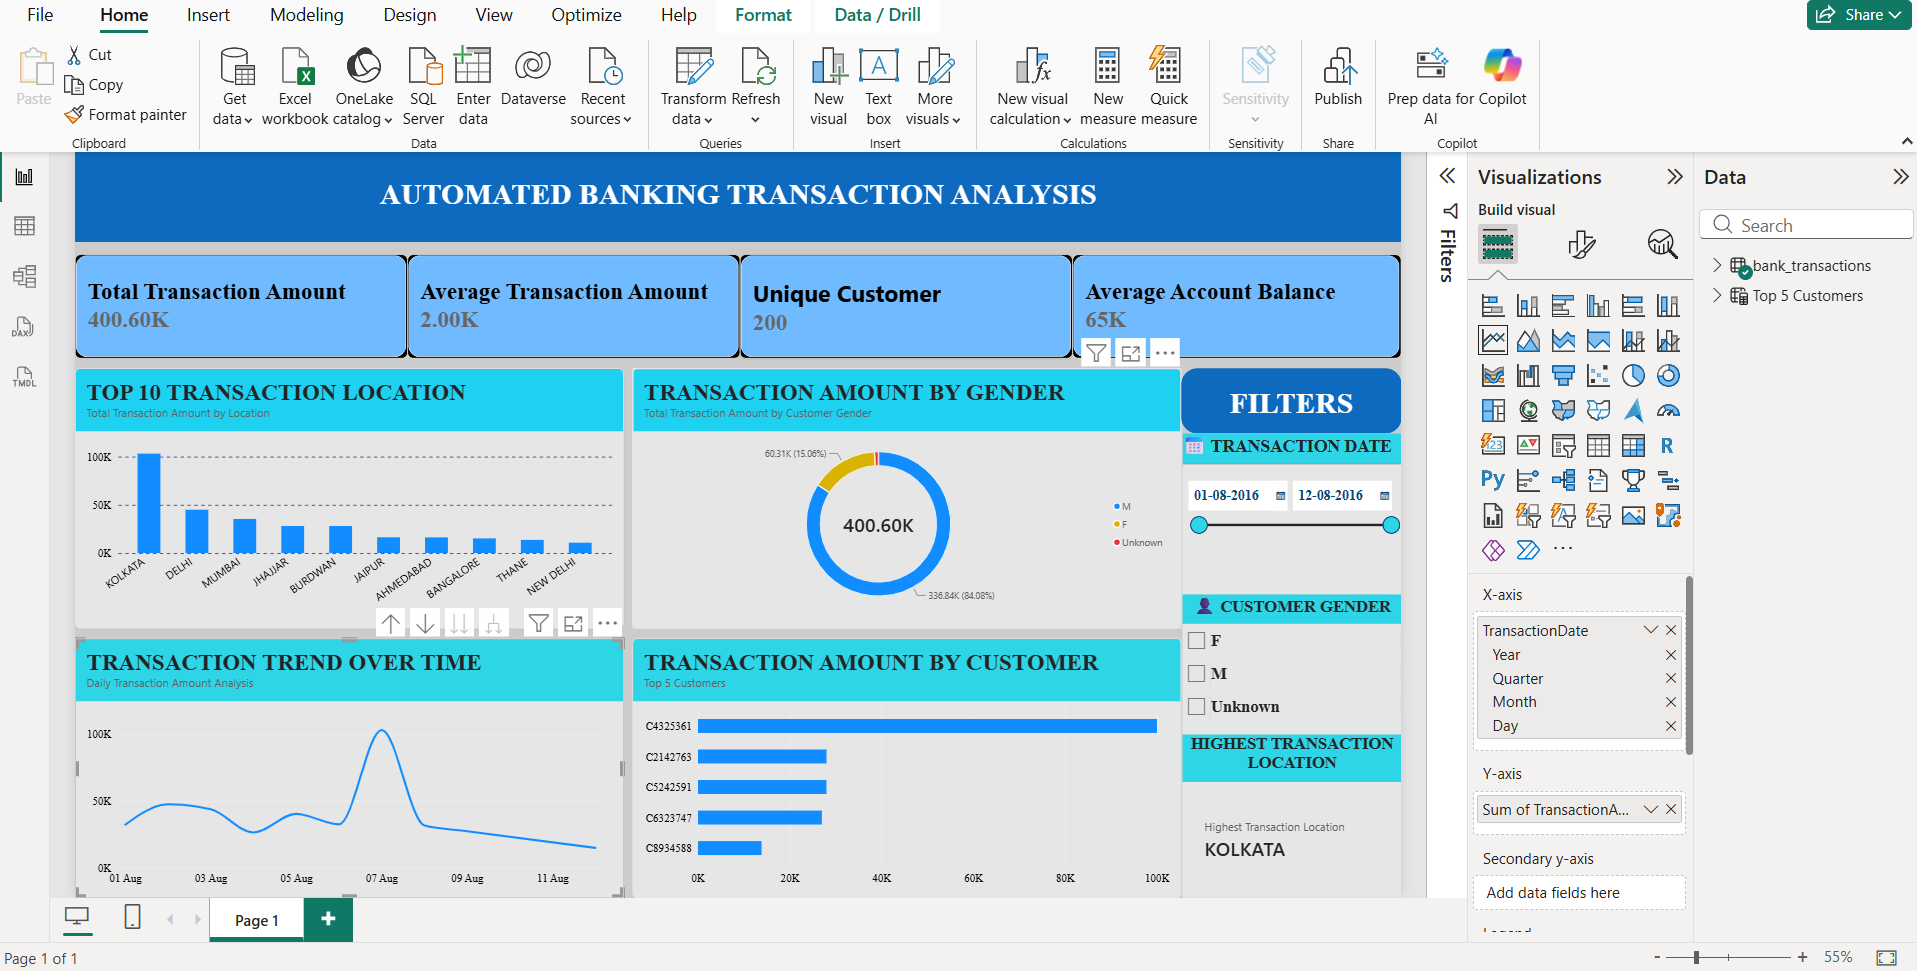

This screenshot's page, from the dashboard's own definition file:
{"tool":"powerbi","page":{"name":"Page 1","canvas":[1920,1080],"ordinal":0},"visuals":[{"type":"shape","box":[0,0,1920.1,130.3],"z":0},{"type":"textbox","box":[0,0,1920.1,130.3],"z":1000},{"type":"cardVisual","fields":{"Data":["bank_transactions.Average Transaction Amount"]},"box":[481.4,148.4,481.4,150.2],"z":2000},{"type":"cardVisual","fields":{"Data":["bank_transactions.Unique Customer"]},"box":[962.7,148.4,481.4,150.2],"z":3000},{"type":"cardVisual","fields":{"Data":["bank_transactions.Average Account Balance"]},"box":[1444.1,148.4,475.9,150.2],"z":4000},{"type":"cardVisual","fields":{"Data":["bank_transactions.Total Transaction Amount"]},"box":[0,148.4,481.4,150.2],"z":5000},{"type":"clusteredColumnChart","title":"TOP 10 TRANSACTION LOCATION","fields":{"Category":["bank_transactions.CustLocation"],"Y":["Sum(bank_transactions.TransactionAmount (INR))"]},"box":[0,312.9,794.5,376.7],"z":6000},{"type":"donutChart","title":"TRANSACTION AMOUNT BY GENDER","fields":{"Category":["bank_transactions.CustGender"],"Y":["Sum(bank_transactions.TransactionAmount (INR))"]},"box":[806.9,312.9,794.5,376.7],"z":7000},{"type":"lineChart","title":"TRANSACTION TREND OVER TIME","fields":{"Category":["bank_transactions.TransactionDate.Variation.Date Hierarchy.Year","bank_transactions.TransactionDate.Variation.Date Hierarchy.Quarter","bank_transactions.TransactionDate.Variation.Date Hierarchy.Month","bank_transactions.TransactionDate.Variation.Date Hierarchy.Day"],"Y":["Sum(bank_transactions.TransactionAmount (INR))"]},"box":[0,703.9,794.5,376.7],"z":8000},{"type":"clusteredBarChart","title":"TRANSACTION AMOUNT BY CUSTOMER","fields":{"Category":["bank_transactions.CustomerID"],"Y":["Sum(bank_transactions.TransactionAmount (INR))"]},"box":[806.9,703.9,794.5,376.7],"z":9000},{"type":"shape","box":[1601.4,312.9,319,94.7],"z":10000},{"type":"textbox","box":[1601.4,337.6,319,119.4],"z":11000},{"type":"slicer","title":"📅 TRANSACTION DATE","fields":{"Values":["bank_transactions.TransactionDate"]},"box":[1603.4,407.5,318,233],"z":12000},{"type":"slicer","title":"👤 CUSTOMER GENDER","fields":{"Values":["bank_transactions.CustGender"]},"box":[1603.4,640.1,317,203.8],"z":13000},{"type":"cardVisual","title":"HIGHEST TRANSACTION LOCATION","fields":{"Data":["bank_transactions.Highest Transaction Location"]},"box":[1603,844,317,236],"z":14000}]}

Visuals, with their boxes on the page's 1920x1080 design canvas (x1, y1, x2, y2). These are canvas units, not pixel positions in the 1917x971 screenshot, which may show the page scaled, cropped or inside an application window:
shape: <region>0, 0, 1920, 130</region>
textbox: <region>0, 0, 1920, 130</region>
cardVisual - bank_transactions.Average Transaction Amount: <region>481, 148, 963, 299</region>
cardVisual - bank_transactions.Unique Customer: <region>963, 148, 1444, 299</region>
cardVisual - bank_transactions.Average Account Balance: <region>1444, 148, 1920, 299</region>
cardVisual - bank_transactions.Total Transaction Amount: <region>0, 148, 481, 299</region>
"TOP 10 TRANSACTION LOCATION" clusteredColumnChart: <region>0, 313, 794, 690</region>
"TRANSACTION AMOUNT BY GENDER" donutChart: <region>807, 313, 1601, 690</region>
"TRANSACTION TREND OVER TIME" lineChart: <region>0, 704, 794, 1081</region>
"TRANSACTION AMOUNT BY CUSTOMER" clusteredBarChart: <region>807, 704, 1601, 1081</region>
shape: <region>1601, 313, 1920, 408</region>
textbox: <region>1601, 338, 1920, 457</region>
"📅 TRANSACTION DATE" slicer: <region>1603, 408, 1921, 640</region>
"👤 CUSTOMER GENDER" slicer: <region>1603, 640, 1920, 844</region>
"HIGHEST TRANSACTION LOCATION" cardVisual: <region>1603, 844, 1920, 1080</region>
